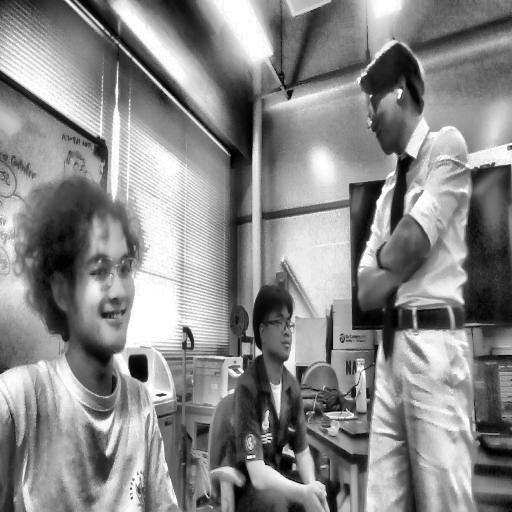Daifuku: (22, 173, 148, 376)
Not Daifuku: (361, 38, 428, 156), (252, 278, 298, 370)
